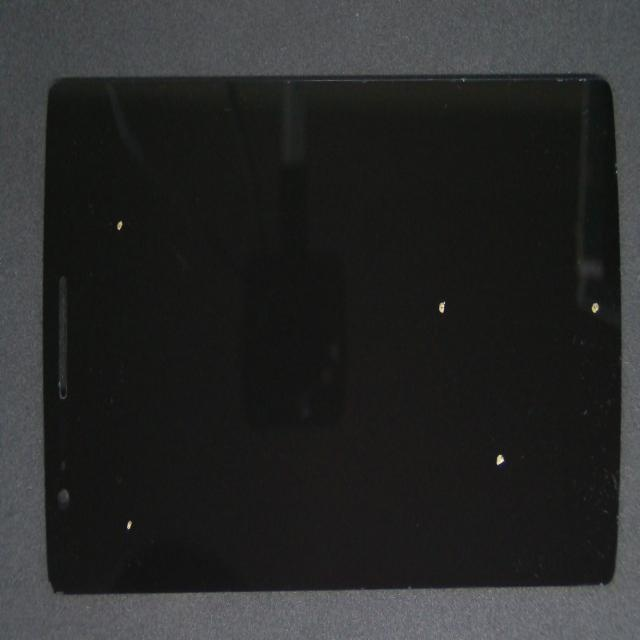stain: (218, 273, 640, 640), (298, 89, 640, 452), (245, 156, 640, 429), (64, 197, 180, 640), (68, 61, 172, 314)
